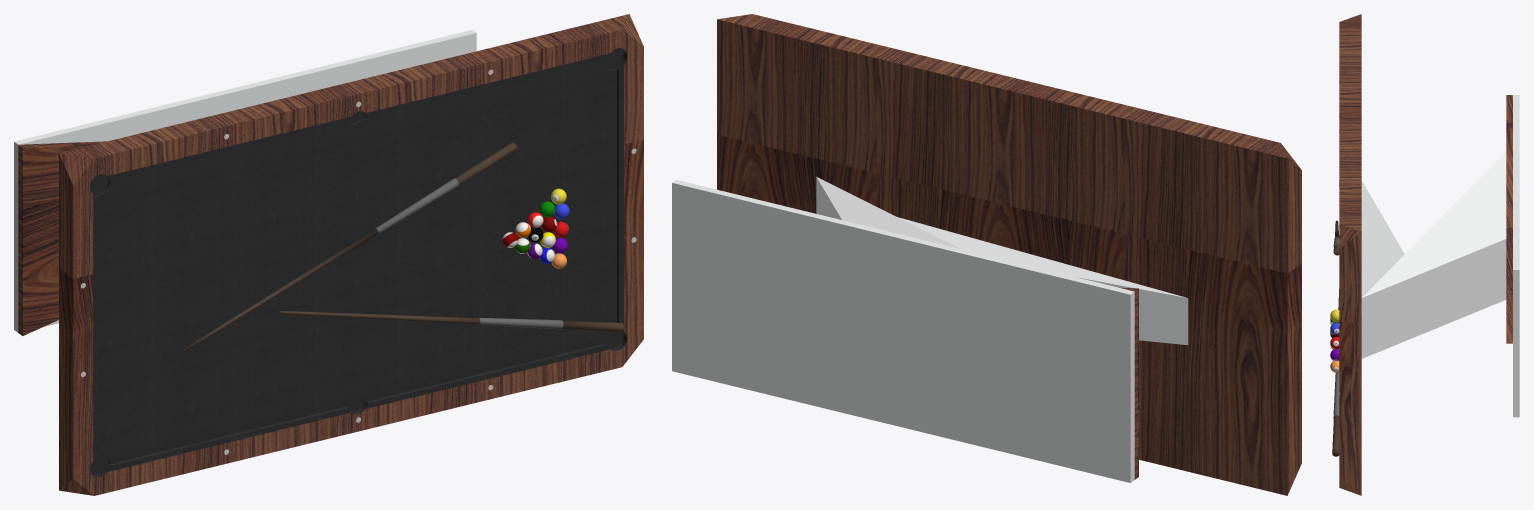
The model's file is mesa-bretda-sinuca-opal.glb.
3 views of the same model, side by side, from view 1: azimuth 30°, elevation 25°; view 2: azimuth 150°, elevation 25°; view 3: azimuth 270°, elevation 25° (orthographic). The views are drawn at different scales.
Visible parts, largest first — view 1: ID462, ID519, ID691, ID190, ID180, ID718, ID156, ID702; view 2: ID519, ID691, ID671, ID190; view 3: ID671, ID519, ID691, ID190, ID710, ID702.
Boxes of the visible parts, left/top/right/bottom form: ID462: left=90, top=48, right=627, bottom=477; ID519: left=59, top=14, right=643, bottom=495; ID691: left=14, top=30, right=476, bottom=332; ID190: left=18, top=141, right=106, bottom=335; ID180: left=184, top=228, right=378, bottom=350; ID718: left=279, top=311, right=479, bottom=324; ID156: left=375, top=178, right=459, bottom=233; ID702: left=478, top=317, right=563, bottom=329; ID519: left=717, top=14, right=1301, bottom=495; ID691: left=672, top=180, right=1134, bottom=482; ID671: left=816, top=177, right=1188, bottom=345; ID190: left=1119, top=287, right=1138, bottom=479; ID671: left=1361, top=152, right=1506, bottom=358; ID519: left=1339, top=14, right=1361, bottom=495; ID691: left=1513, top=95, right=1519, bottom=417; ID190: left=1506, top=95, right=1512, bottom=343; ID710: left=1332, top=415, right=1339, bottom=456; ID702: left=1333, top=372, right=1339, bottom=418.
Bounding box in the file's own units: 90.55 × 51.25 × 33.27.
22 materials, 20 textured.
